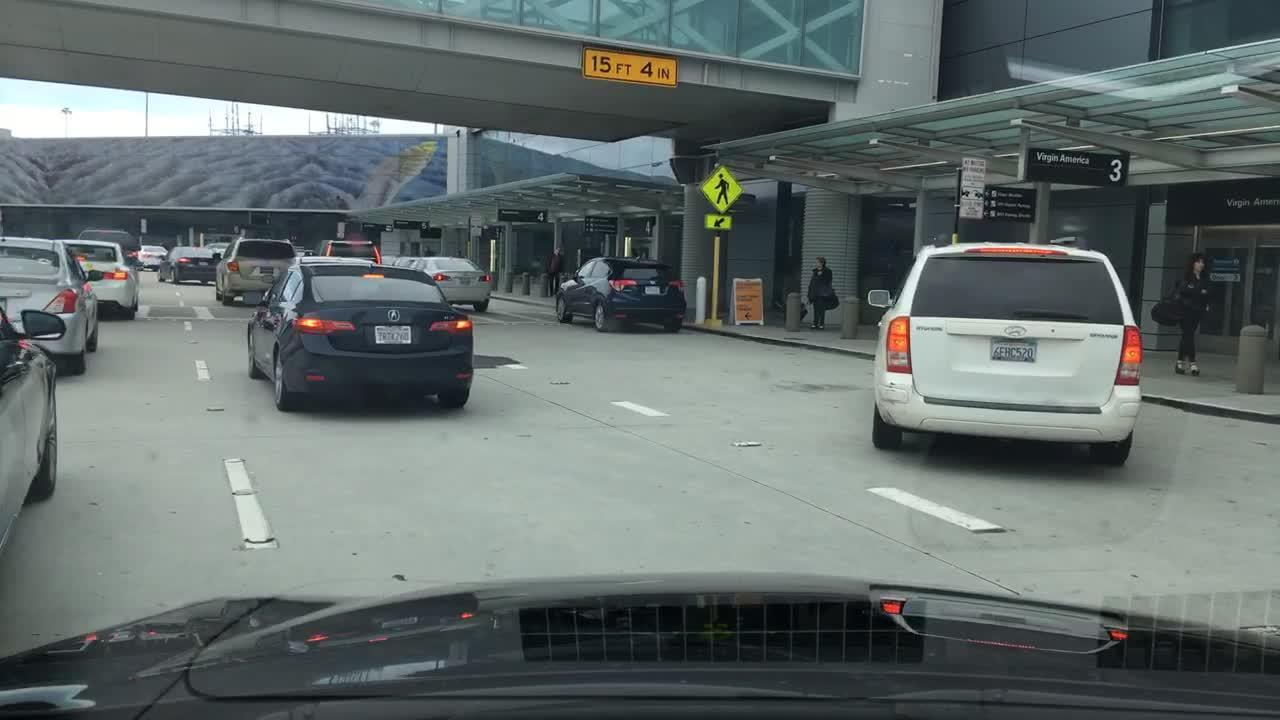Hyundai: (1001, 321, 1038, 346)
